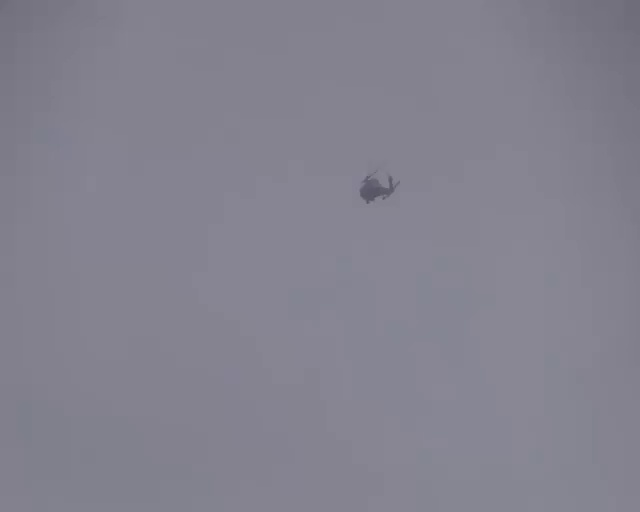HELICOPTER: (358, 168, 401, 204)
